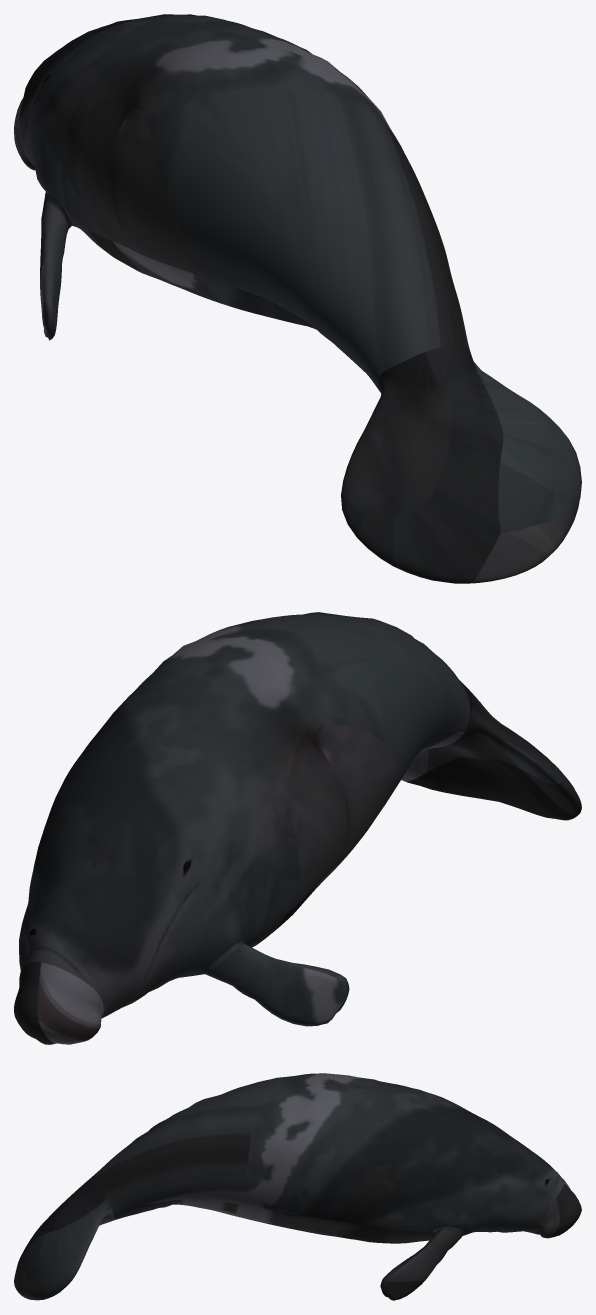
The picture shows the model from 3 angles, top to bottom: view 1: azimuth 30°, elevation 25°; view 2: azimuth 150°, elevation 25°; view 3: azimuth 270°, elevation 25°; orthographic projection. The views are drawn at different scales.
Visible parts, largest first — view 1: lamantin_low:polySurface1; view 2: lamantin_low:polySurface1; view 3: lamantin_low:polySurface1.
Part boxes in pixels (<box>): lamantin_low:polySurface1: <box>14,14,581,583</box>; lamantin_low:polySurface1: <box>14,612,581,1044</box>; lamantin_low:polySurface1: <box>14,1073,581,1300</box>.
Bounding box in the file's own units: 1.48 × 1.59 × 4.03.
